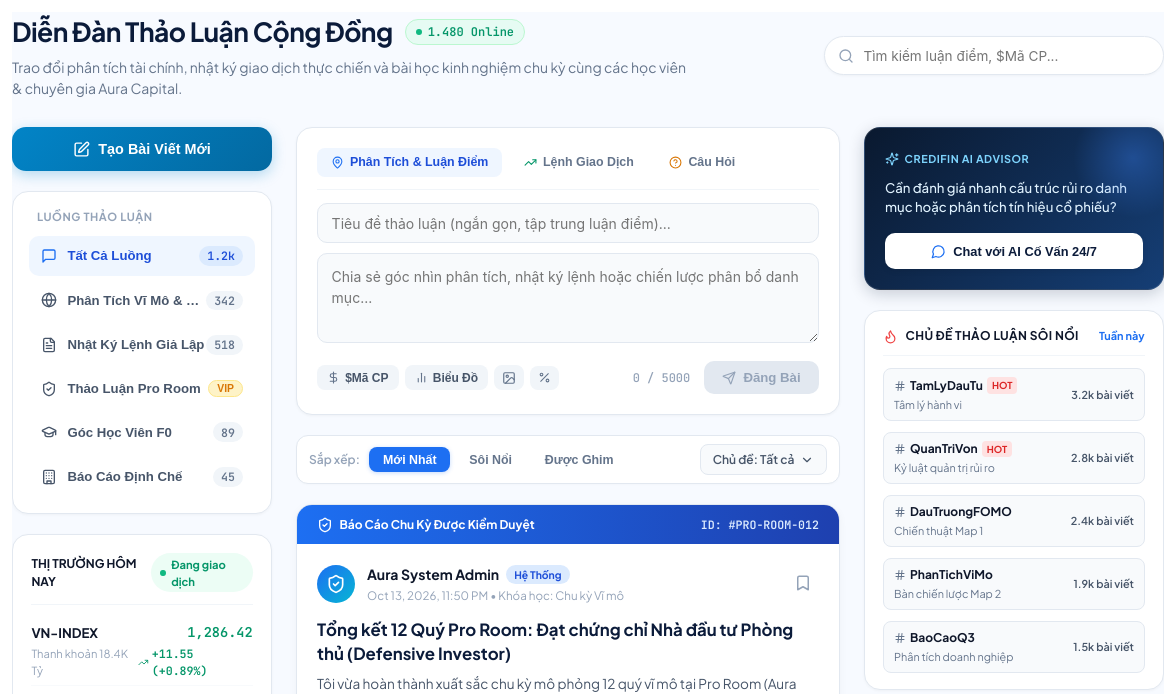
Scenario: CommunityFeedPage (Component & State - AC-001..AC-028) › displays service unavailable banner on 503 Redis outage (AC-017)
Replace the text in the text box with test id "post-composer-textarea" with "Post during outage" at x=568, y=298, box [317,253,819,343]
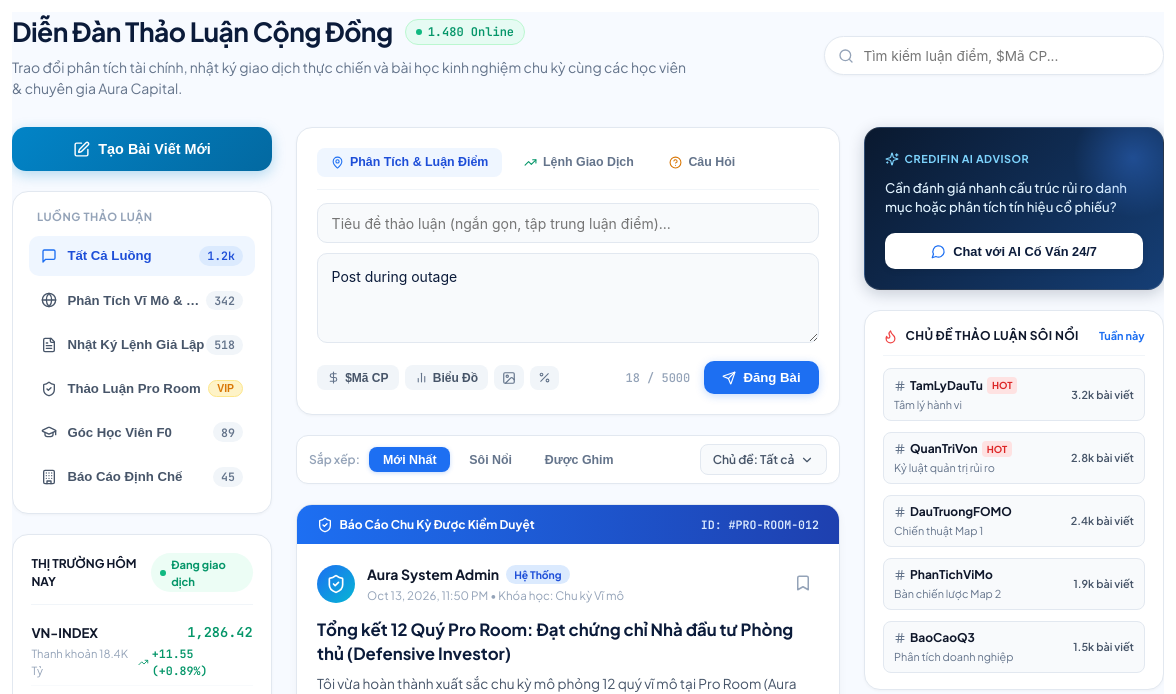
Click the button with test id "post-composer-submit-btn" at x=761, y=378, box [704,361,819,394]
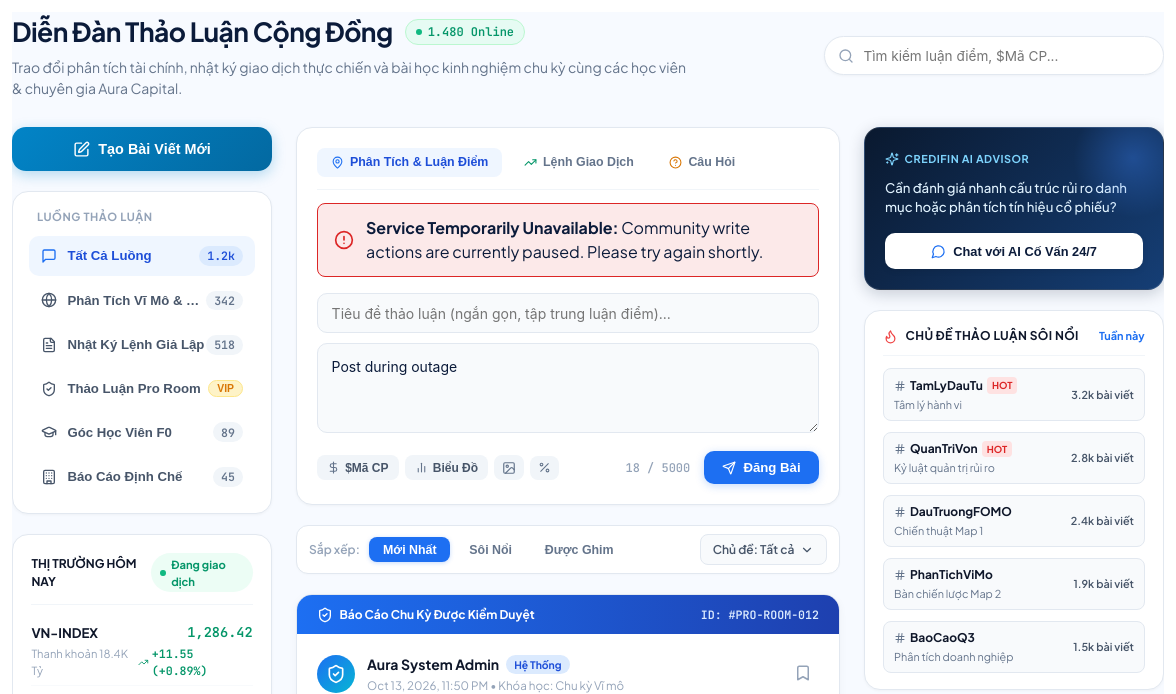
Result: the message with test id "community-service-unavailable-banner" is shown at [317,203,819,277]
